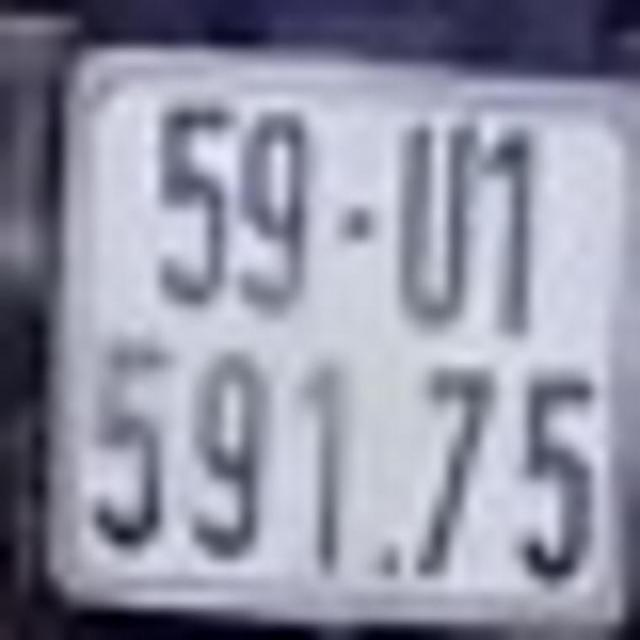1: (482, 128, 536, 338), (294, 359, 342, 571)
5: (512, 369, 600, 584), (155, 103, 231, 308), (91, 339, 164, 551)
7: (421, 362, 494, 584)
9: (237, 110, 310, 316), (188, 347, 256, 556)
U: (392, 122, 468, 317)
